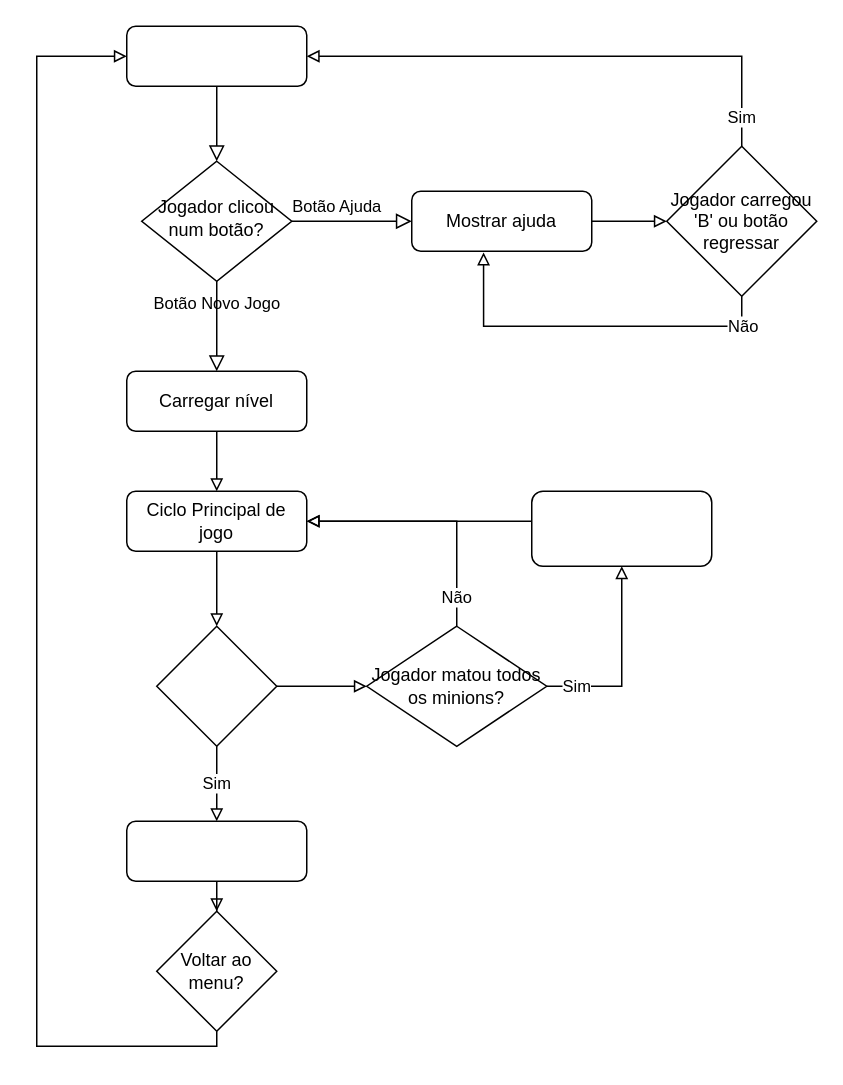
Image size: 843x1085. Some labels were removed from this diagram. Each missing label, with the centre of its shape:
Criar Boss e mais minions: [621,528]
Jogador Morreu: [216,685]
Menu derrota: [216,850]
Menu Inicial: [216,55]
